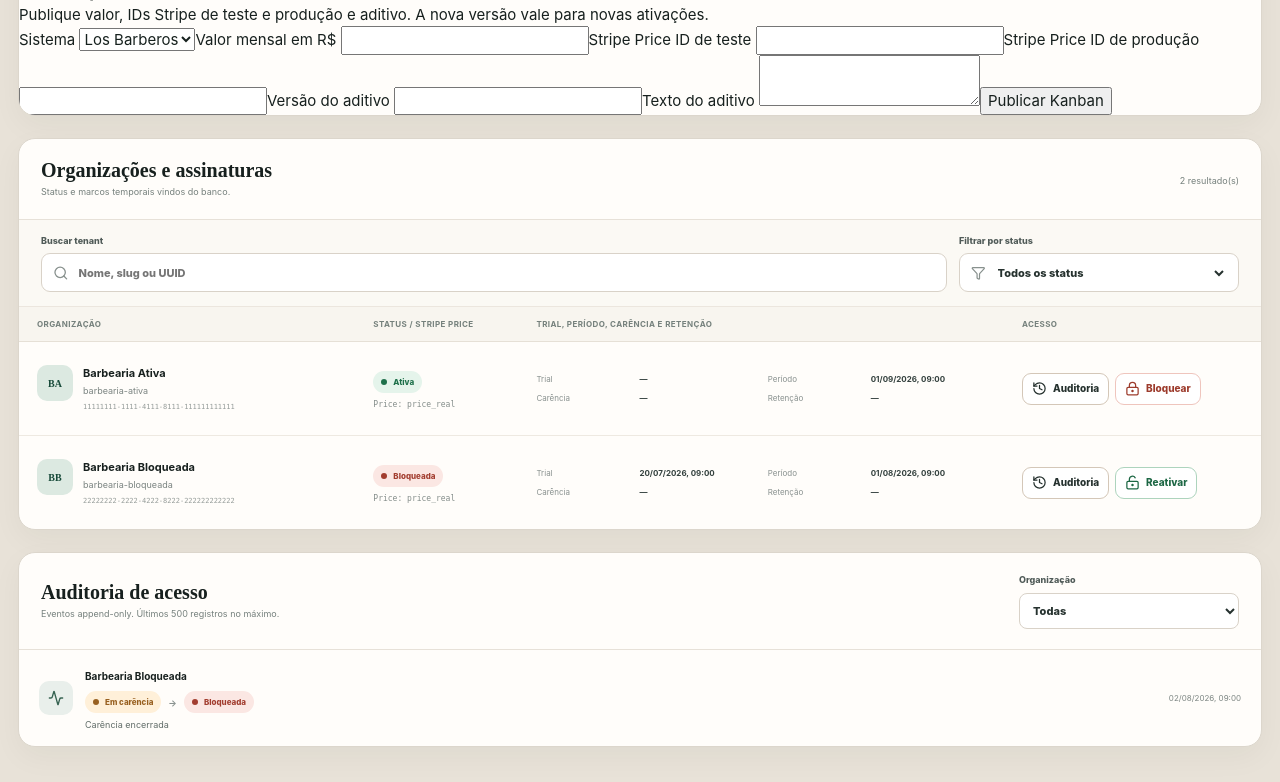
Test case: connected platform admin › bloqueia via RPC auditada e exige motivo
(page scrolled)
Click the button with aria-label "Bloquear acesso de Barbearia Ativa" at (1158, 389), box [1115,373,1201,405]
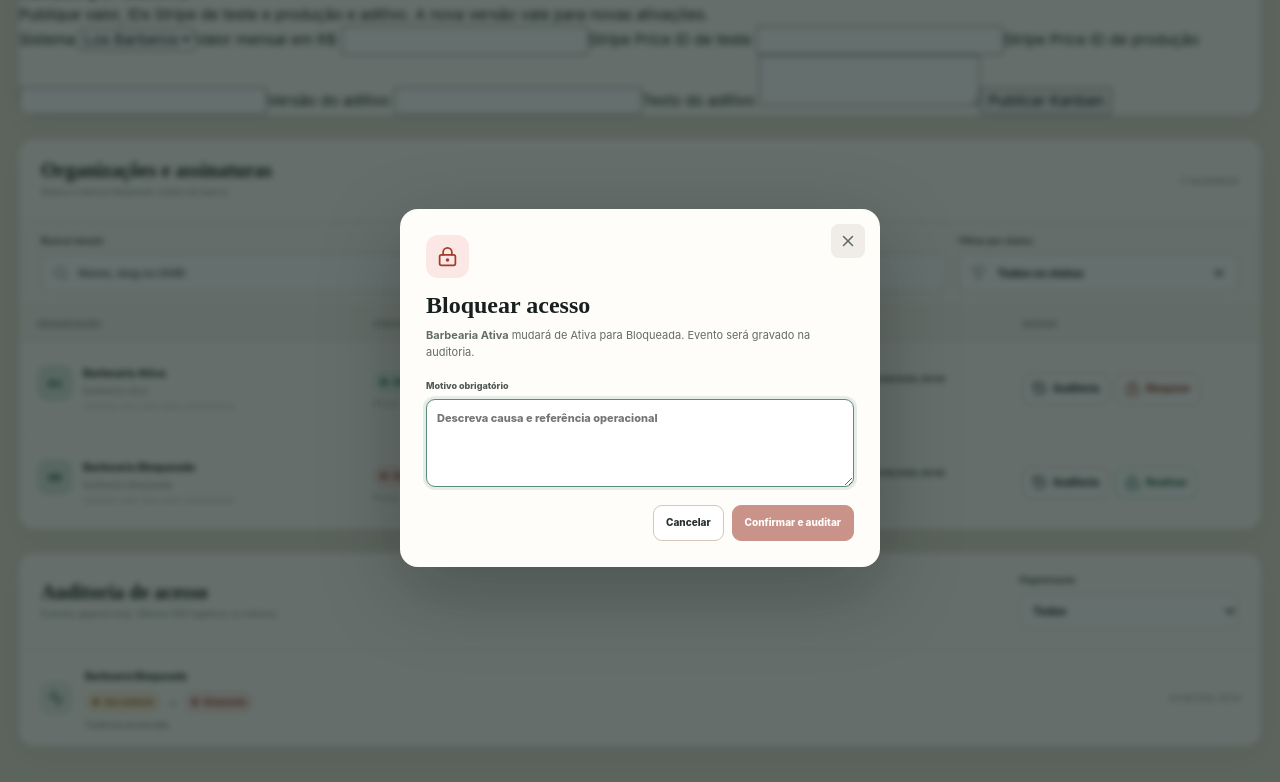
expect the button "Confirmar e auditar" is disabled: met, box [732,505,854,541]
Type "  suspeita operacional  " into the text box labelled "Motivo obrigatório" at (640, 443), box [426,399,854,487]
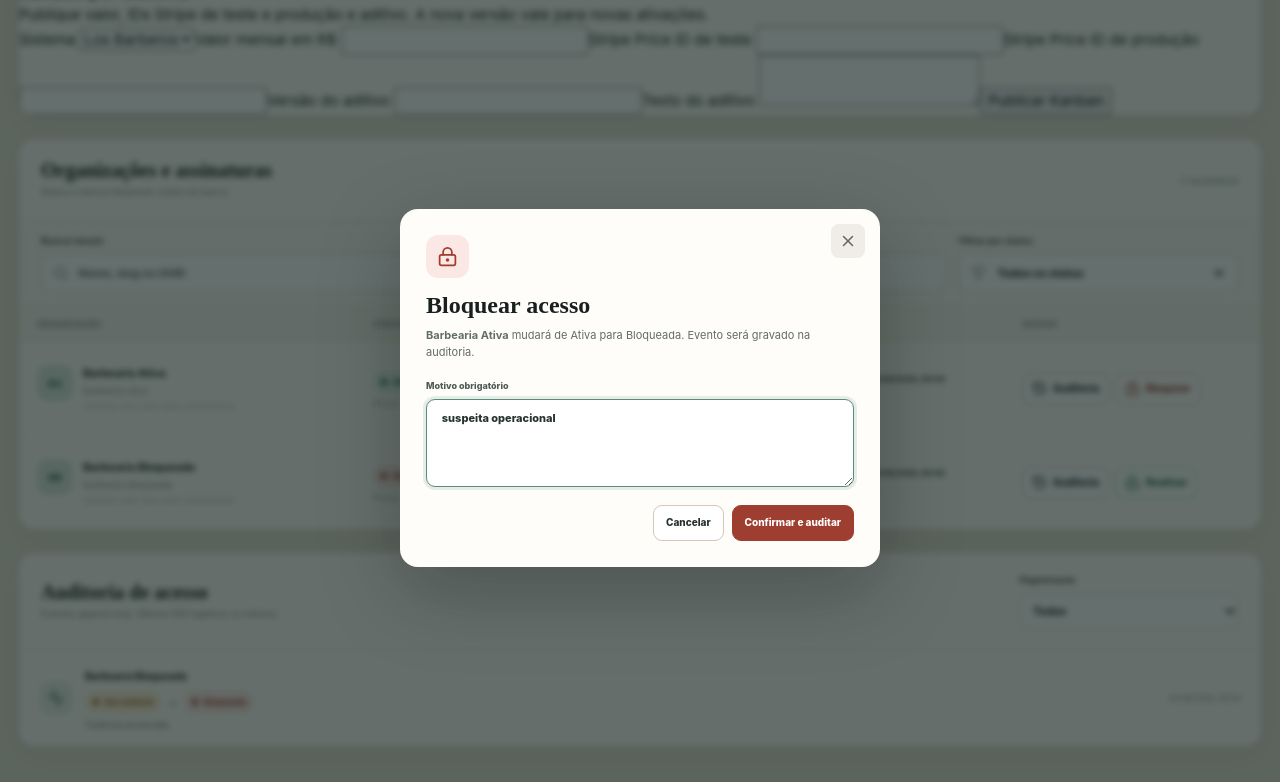
Click the button "Confirmar e auditar" at (793, 523), box [732,505,854,541]
(page scrolled)
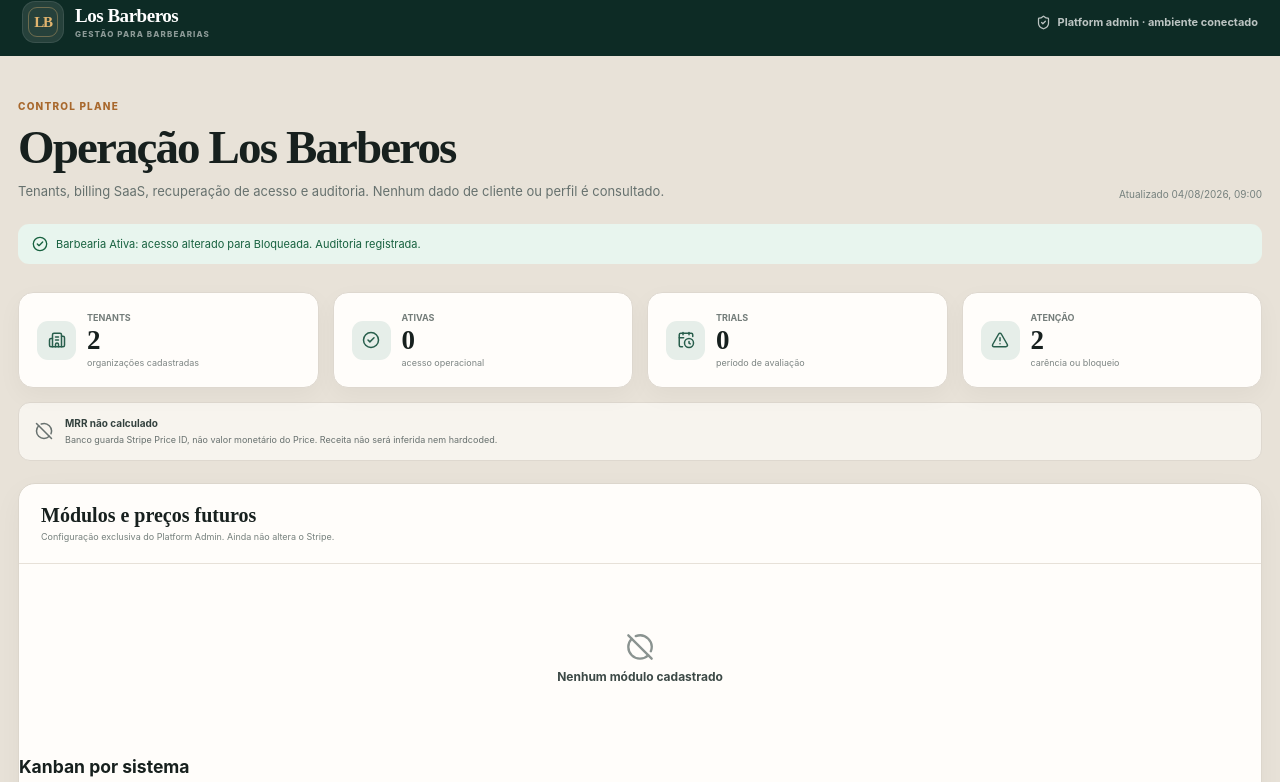
expect the message shows "acesso alterado para Bloqueada": met, box [56,237,421,251]
